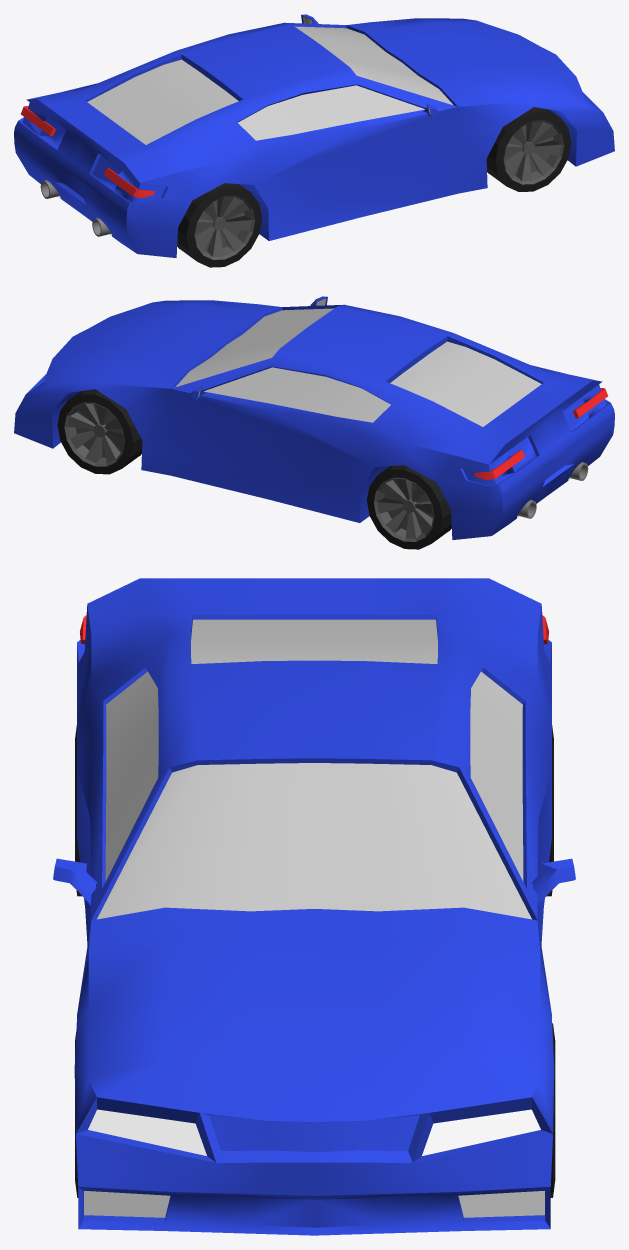
Rendered from customcar.fbx.
3 renders of one model, top to bottom at view 1: azimuth 30°, elevation 25°; view 2: azimuth 150°, elevation 25°; view 3: azimuth 270°, elevation 25°, orthographic. The views are drawn at different scales.
Visible parts, largest first — view 1: Cube, Disc_1, Disc_1_2; view 2: Cube, Disc_1, Disc_1_3; view 3: Cube.
Part boxes in pixels (x1,y1,x2,y2): Cube: (14, 14, 614, 257); Disc_1: (177, 183, 261, 267); Disc_1_2: (486, 107, 571, 191); Cube: (14, 296, 614, 539); Disc_1: (367, 465, 451, 549); Disc_1_3: (57, 389, 142, 474); Cube: (53, 578, 575, 1235).
Bounding box in the file's own units: 1049 × 287 × 482.
